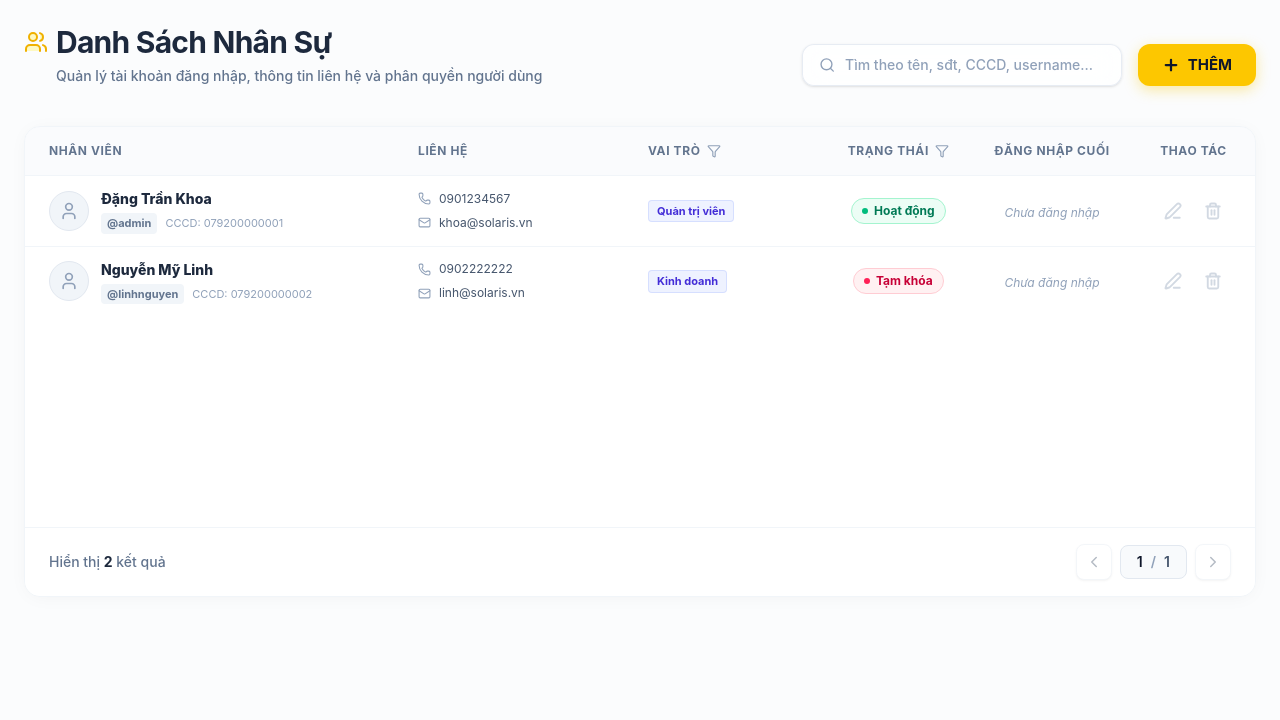
it: Module 01 - UserList Component › TC04 - Mở modal xác nhận khi click nút Xóa nhân viên
Expected: the text "Đặng Trần Khoa" is shown, top-left (101, 190), bottom-right (212, 207)
Click the button titled "Xóa nhân viên" in the row of "Đặng Trần Khoa": (1214, 211) top-left (1196, 194), bottom-right (1230, 228)
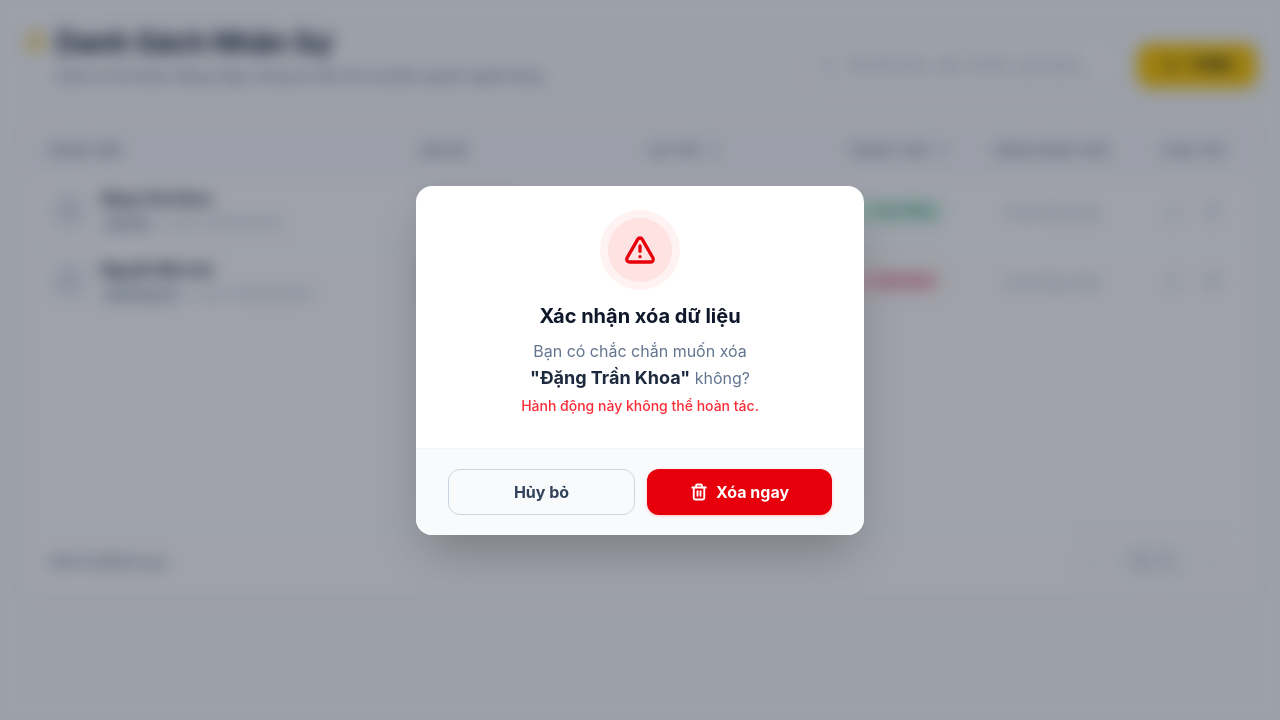
Expected: the text "Bạn có chắc chắn muốn xóa" is shown, top-left (533, 340), bottom-right (747, 360)
